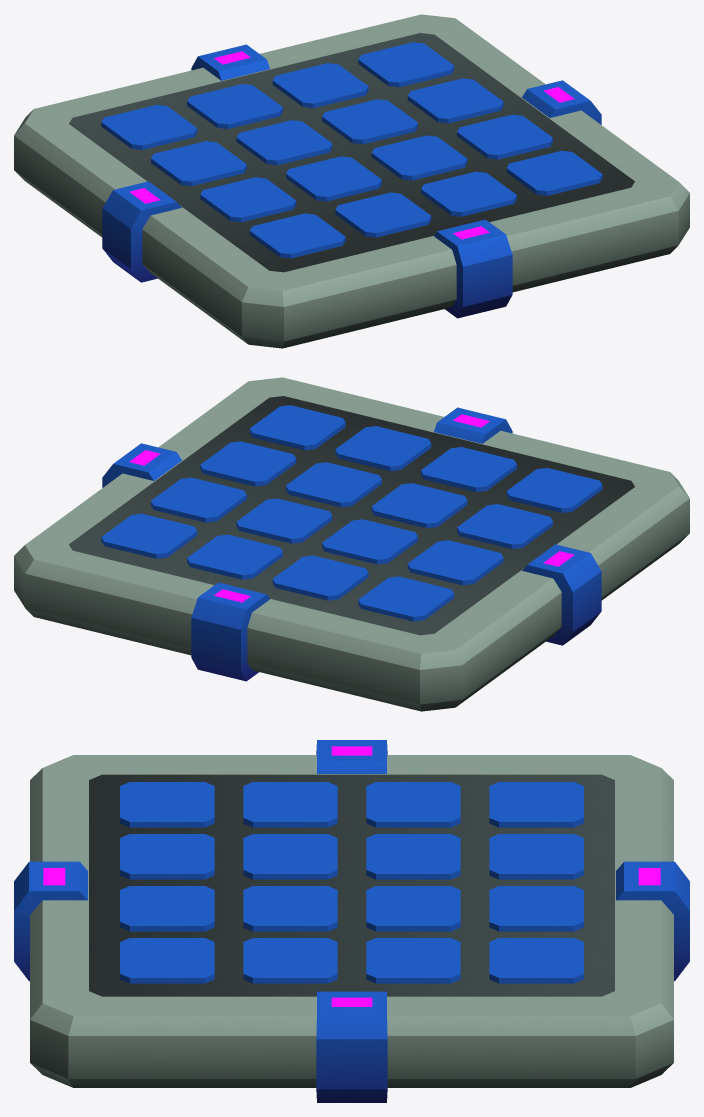
File: platform.fbx
3 views of the same model, one above another, from view 1: azimuth 30°, elevation 25°; view 2: azimuth 150°, elevation 25°; view 3: azimuth 270°, elevation 25° (orthographic). The views are drawn at different scales.
Parts seen in each view (by area): view 1: platform; view 2: platform; view 3: platform.
Boxes of the visible parts, left/top/right/bottom form: platform: left=14, top=14, right=689, bottom=348; platform: left=14, top=377, right=689, bottom=711; platform: left=14, top=740, right=689, bottom=1102.
Bounding box in the file's own units: 297 × 43.53 × 297.
